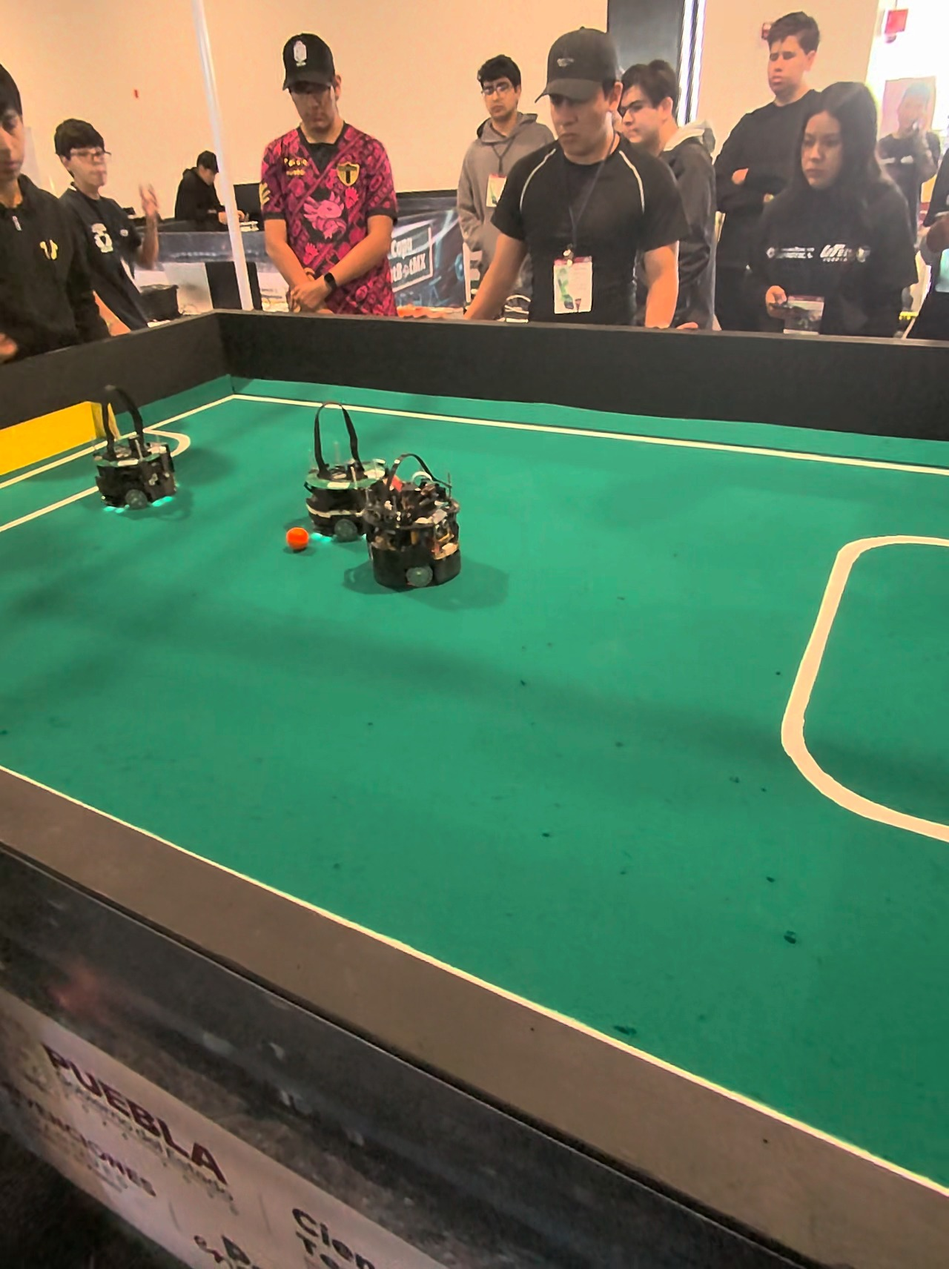Robot: (373, 428, 484, 605), (272, 402, 403, 534), (78, 398, 180, 528)
pelota: (284, 513, 313, 556)
